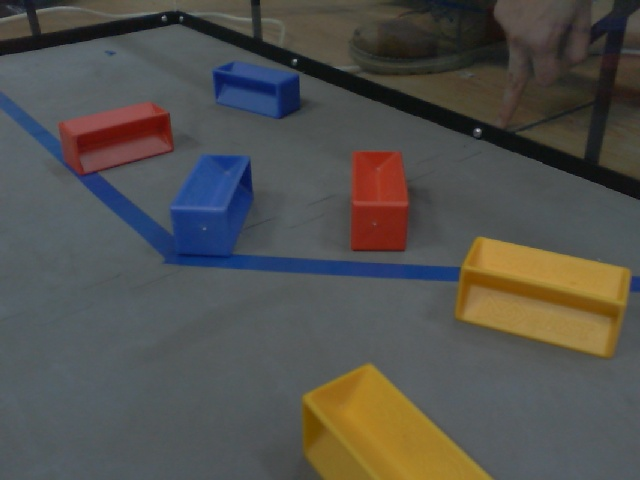BlueSample: (160, 146, 261, 261), (206, 55, 306, 122)
RedSample: (54, 98, 177, 177), (343, 145, 414, 259)
YellowSample: (296, 361, 507, 479), (449, 230, 634, 363)
